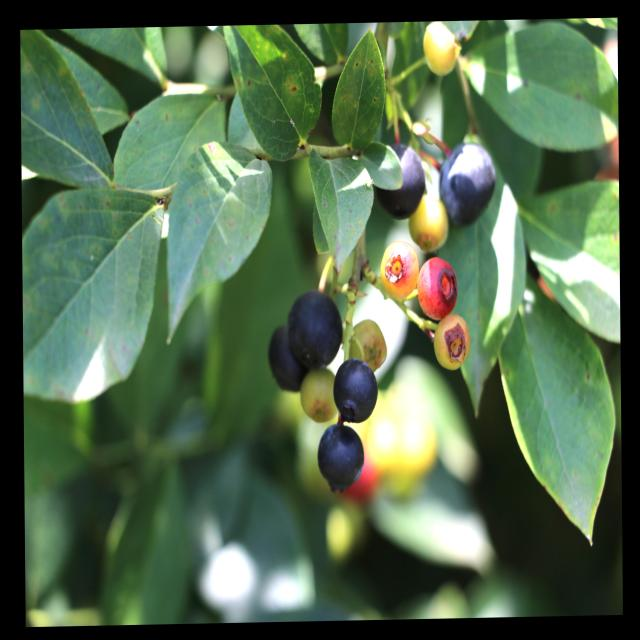blueberry: (436, 136, 496, 227), (288, 288, 344, 372), (371, 137, 425, 223), (316, 418, 371, 488), (335, 356, 378, 425), (267, 330, 300, 392)
blueberry-halfripe: (415, 253, 459, 320), (376, 241, 421, 299)
blueberry-unripe: (426, 308, 474, 373), (403, 190, 451, 252), (346, 318, 390, 374), (420, 21, 460, 74), (299, 370, 336, 424)
